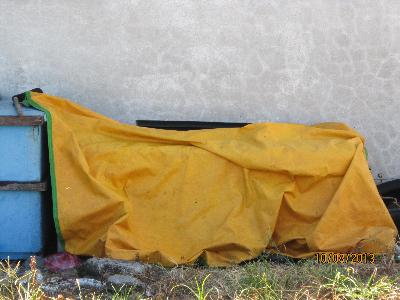plastic_bag: (26, 87, 397, 269)
